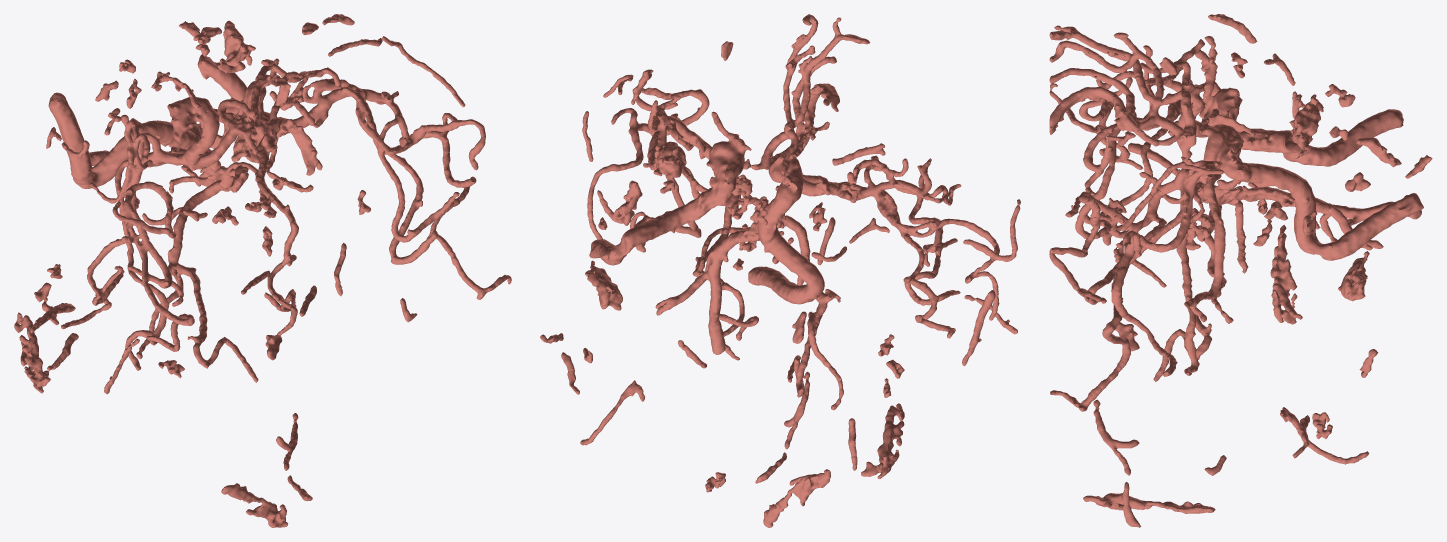
Rendered from vessel_tree.glb.
3 views of the same model, side by side, from view 1: azimuth 30°, elevation 25°; view 2: azimuth 150°, elevation 25°; view 3: azimuth 270°, elevation 25° (orthographic). The views are drawn at different scales.
Visible parts, largest first — view 1: world; view 2: world; view 3: world.
Boxes of the visible parts, x1,y1,x2,y2 form: world: (14,14,511,527); world: (540,14,1020,527); world: (1049,14,1432,527).
Bounding box in the file's own units: 138 × 149 × 106.
